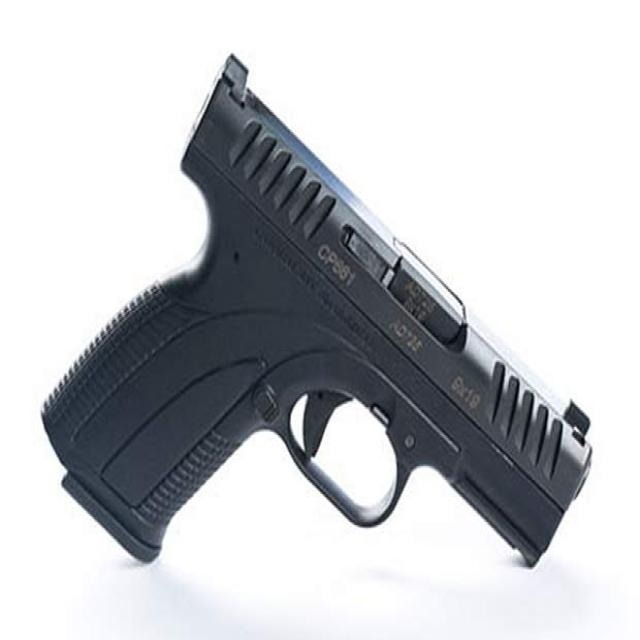Gun: (45, 36, 604, 624)
